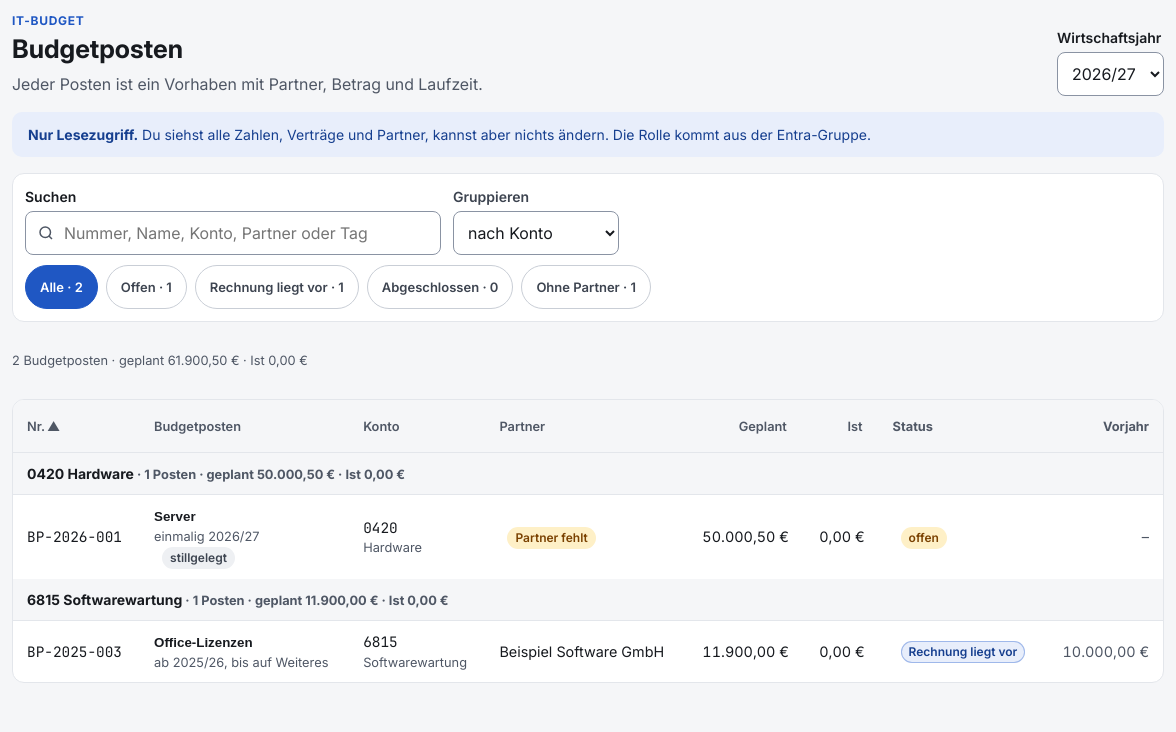
Test: Budgetposten › sortiert nach Spalten und gruppiert nach Partner oder gar nicht
Select "nicht gruppieren" in the dropdown labelled "Gruppieren" at [536, 233], box top-left (453, 211), bottom-right (619, 255)
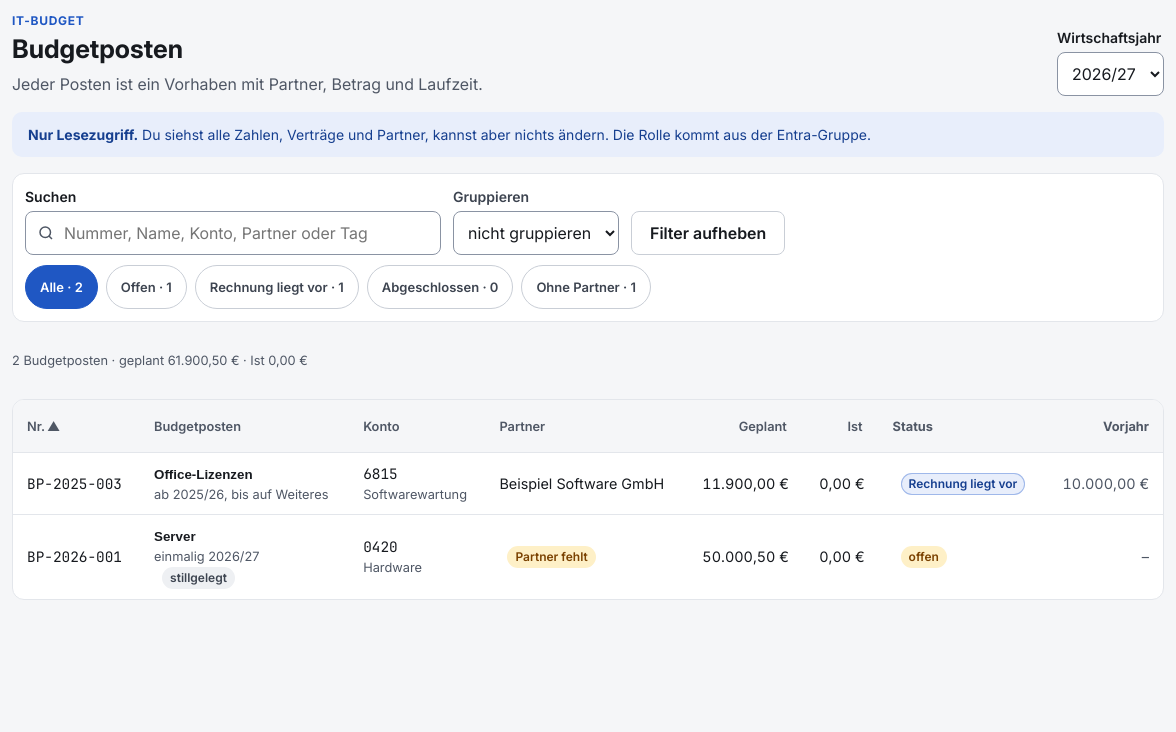
Click the button "Geplant" at [764, 426], box top-left (739, 410), bottom-right (789, 442)
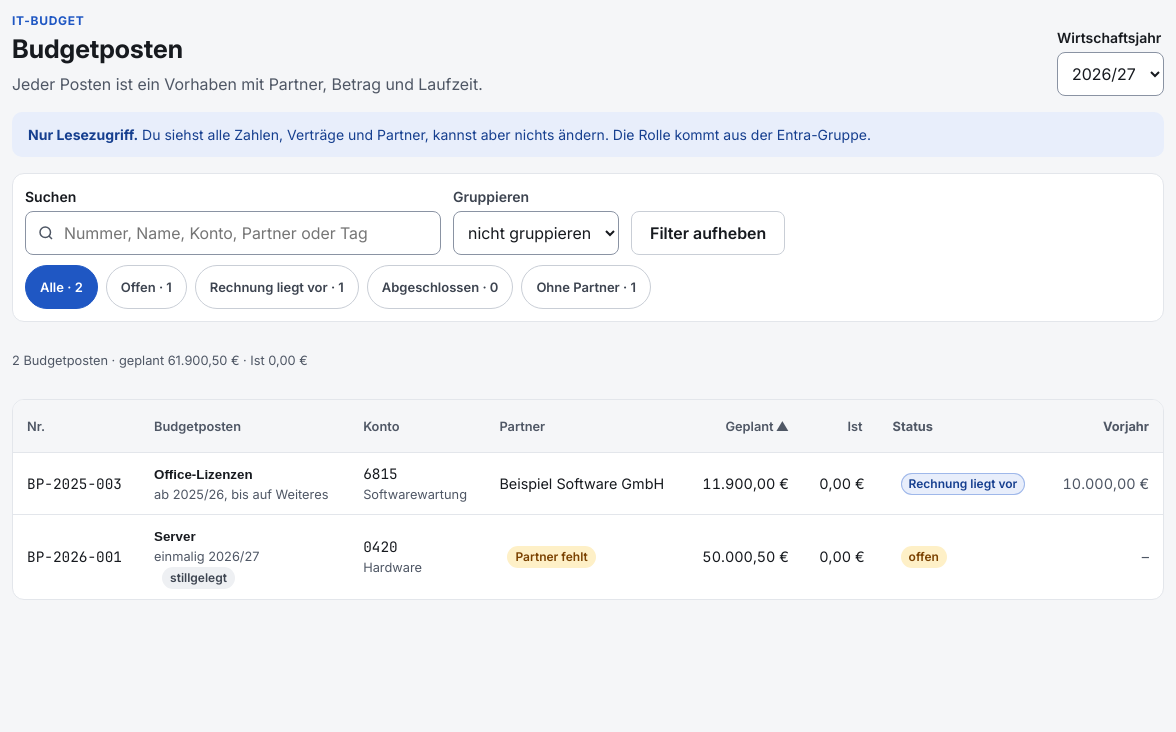
expect the column heading "Geplant ▲" has attribute aria-sort="ascending": met, box top-left (685, 400), bottom-right (803, 453)
Click the button "Geplant ▲" at [757, 426], box top-left (725, 410), bottom-right (789, 442)
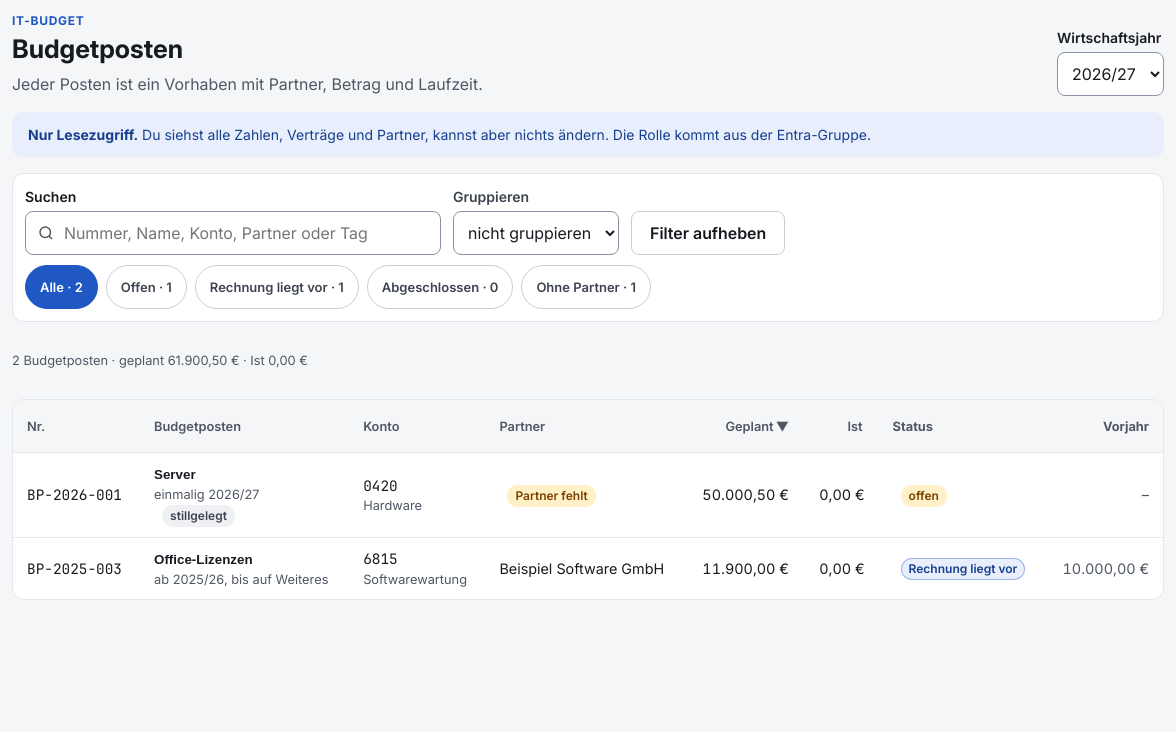
Select "nach Partner" in the dropdown labelled "Gruppieren" at [536, 233], box top-left (453, 211), bottom-right (619, 255)
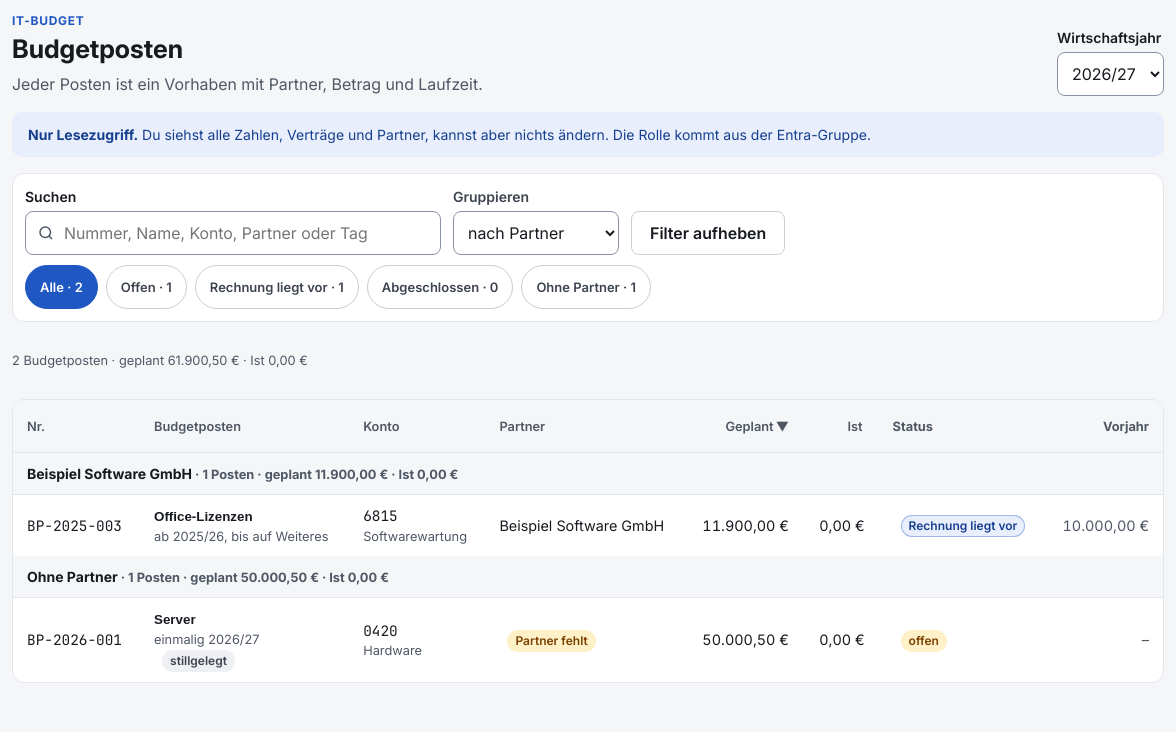
expect the column heading "Beispiel Software GmbH" is shown: met, box top-left (13, 453), bottom-right (1163, 495)
expect the column heading "Ohne Partner · 1 Posten · geplant 50.000,50 € · Ist 0,00 €" is shown: met, box top-left (13, 556), bottom-right (1163, 598)
